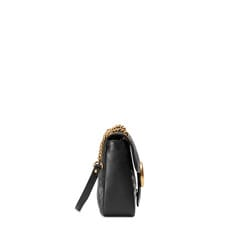Gucci: (78, 124, 144, 218)
